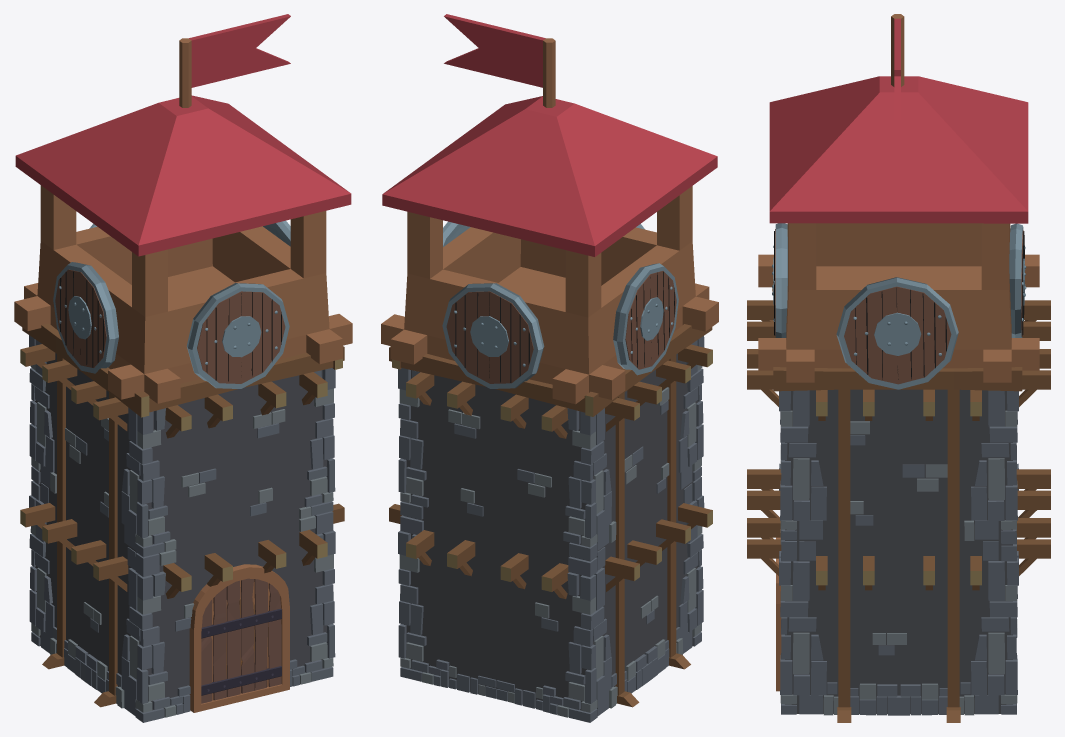
The model's file is tower_lvl3.fbx.
3 views of the same model, side by side, from view 1: azimuth 30°, elevation 25°; view 2: azimuth 150°, elevation 25°; view 3: azimuth 270°, elevation 25° (orthographic). The views are drawn at different scales.
Parts seen in each view (by area): view 1: House_3, Cube.022, Arch_Door_bottompivot, Node, Node.003; view 2: House_3, Cube.022, Node.001, Node.003; view 3: House_3, Cube.022, Node.002, Node.001, Node, Arch_Door_bottompivot.
Boxes of the visible parts, <box> form: House_3: <box>20,323,344,722</box>; Cube.022: <box>14,14,352,403</box>; Arch_Door_bottompivot: <box>189,564,289,712</box>; Node: <box>186,283,289,388</box>; Node.003: <box>53,262,118,373</box>; House_3: <box>389,324,712,722</box>; Cube.022: <box>381,14,718,404</box>; Node.001: <box>442,283,544,388</box>; Node.003: <box>613,263,678,375</box>; House_3: <box>747,288,1050,722</box>; Cube.022: <box>758,14,1039,382</box>; Node.002: <box>836,277,958,389</box>; Node.001: <box>1009,223,1026,337</box>; Node: <box>772,223,787,337</box>; Arch_Door_bottompivot: <box>776,537,781,691</box>.
Size of the model in its own units: 159 by 381 by 161.
